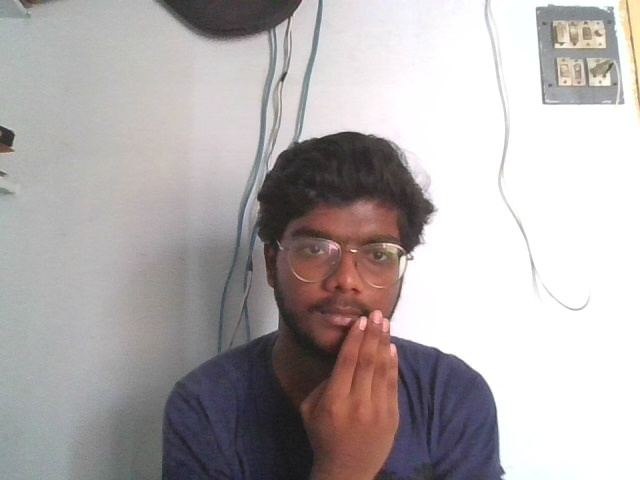Thanks: (297, 308, 408, 471)
